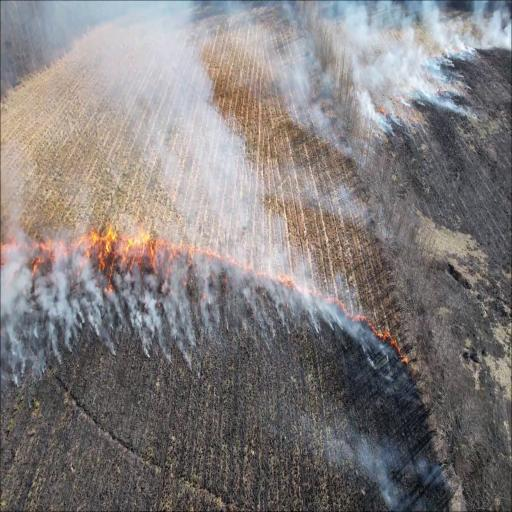fire: (87, 230, 152, 277)
smoke: (140, 16, 269, 234), (354, 12, 470, 142), (329, 426, 443, 512), (2, 258, 42, 398), (52, 263, 83, 372), (134, 296, 186, 360)
